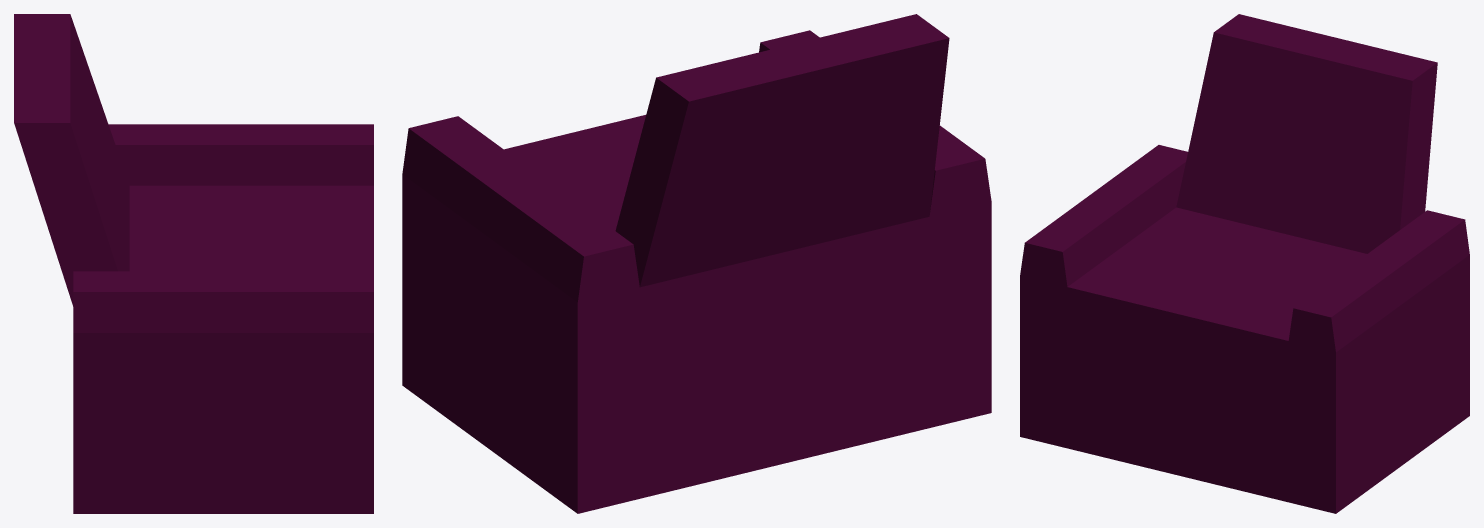
The model's file is chair.fbx.
3 views of the same model, side by side, from view 1: azimuth 30°, elevation 25°; view 2: azimuth 150°, elevation 25°; view 3: azimuth 270°, elevation 25° (orthographic). The views are drawn at different scales.
Visible parts, largest first — view 1: chair; view 2: chair; view 3: chair.
Boxes of the visible parts, left/top/right/bottom form: chair: left=14, top=14, right=373, bottom=513; chair: left=402, top=14, right=991, bottom=513; chair: left=1020, top=14, right=1469, bottom=513.
Bounding box in the file's own units: 3.87 × 3.21 × 4.09.
